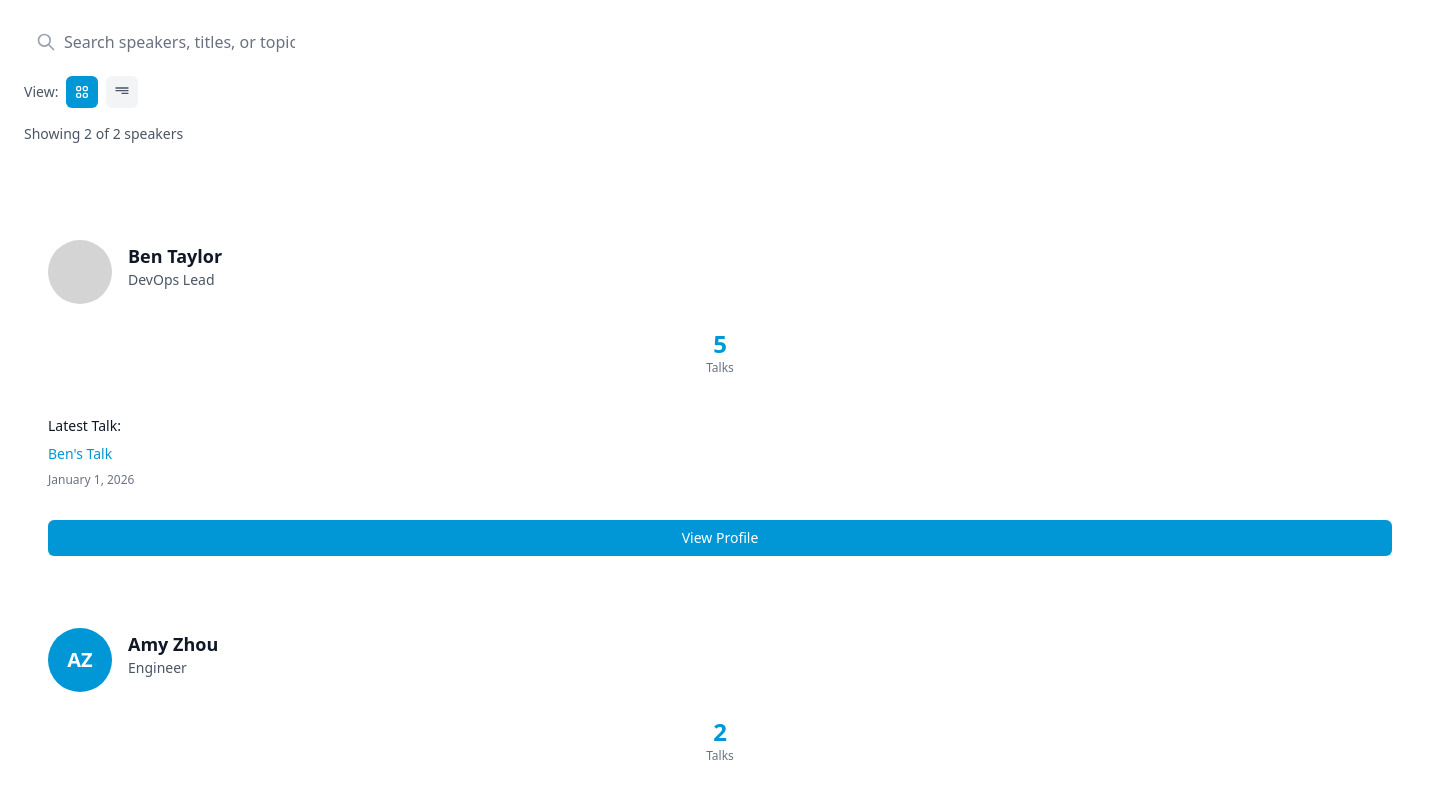
Test case: SpeakersTable › shows an empty state when nothing matches the search
Type "nonexistent" into the field with placeholder "Search speakers, titles, or topics..." at [166, 42], box [24,24,307,60]
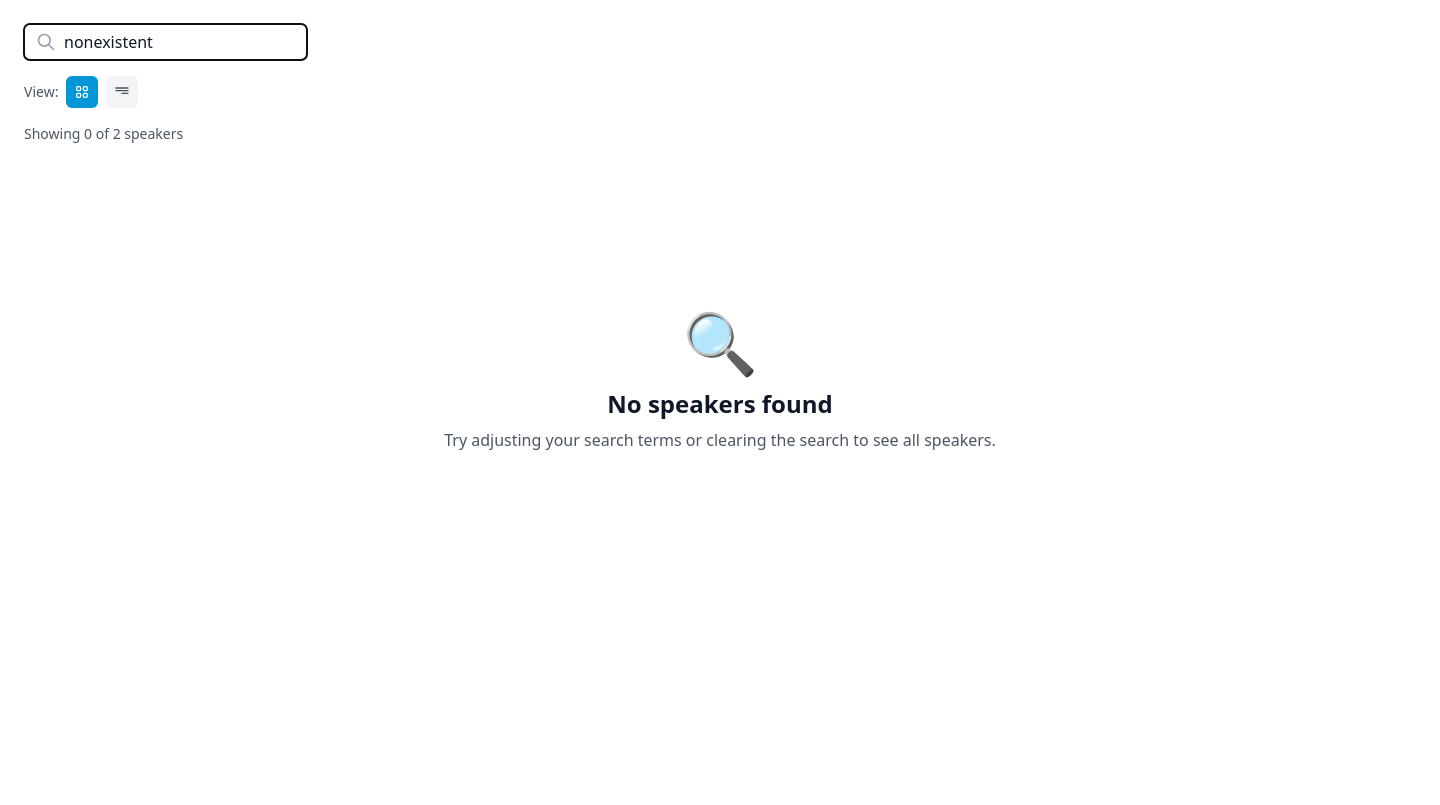
Expected: the heading "No speakers found" is shown, [607,387,833,420]
